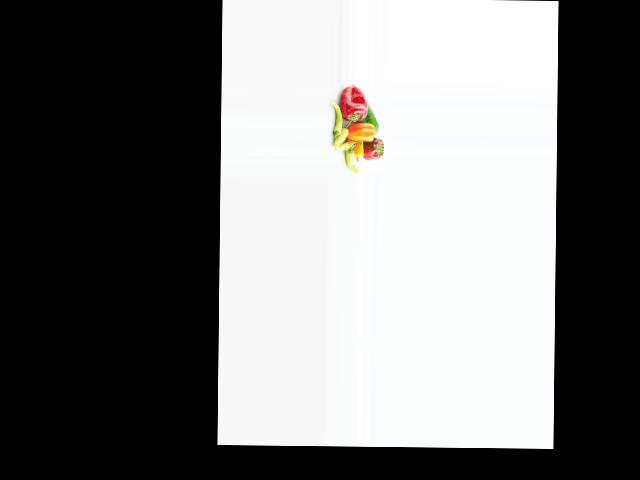bell_pepper: (330, 99, 342, 141)
